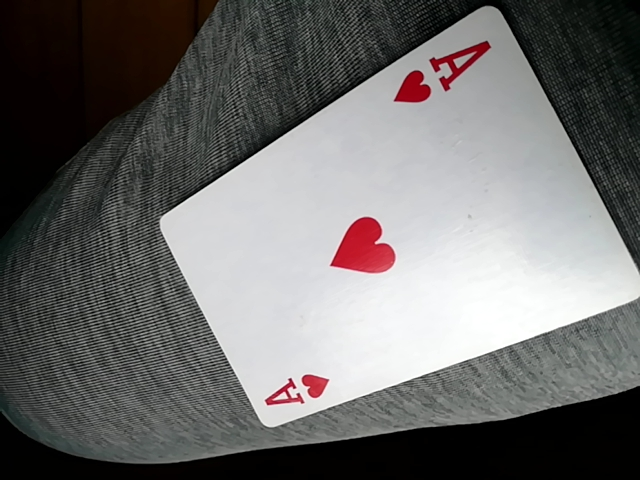hx a: (145, 13, 633, 426)
